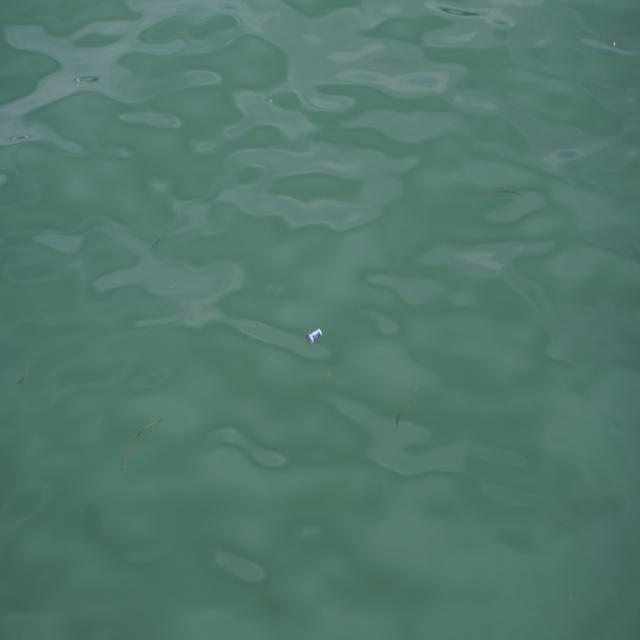Bungkus Minuman: (306, 324, 325, 352)
